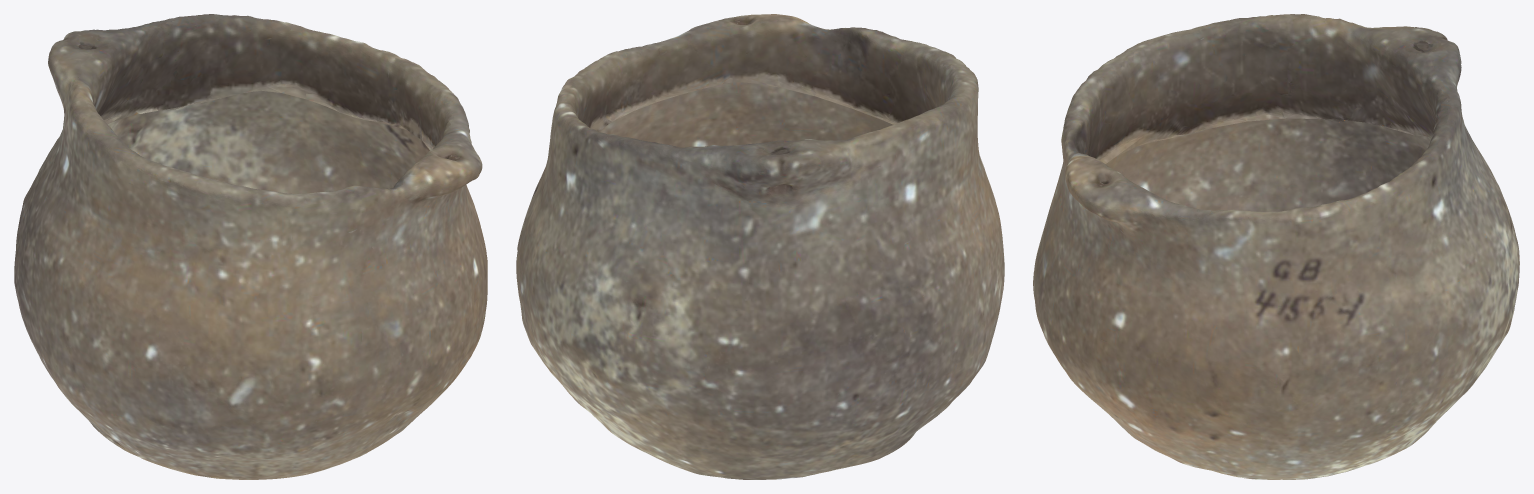
The model's file is Ark_HM_809_HI.glb.
3 views of the same model, side by side, from view 1: azimuth 30°, elevation 25°; view 2: azimuth 150°, elevation 25°; view 3: azimuth 270°, elevation 25° (orthographic). The views are drawn at different scales.
Size of the model in its own units: 0.4791 by 0.415 by 0.4994.
Materials: 1 (1 with a texture image).
